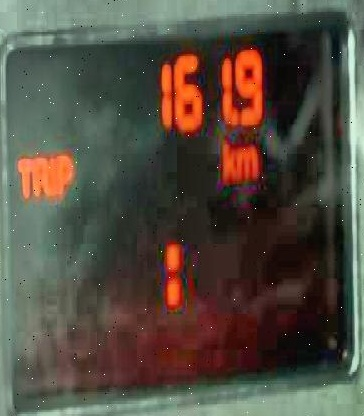-: (230, 102, 238, 127)
1: (158, 54, 173, 136), (219, 49, 233, 123)
6: (174, 49, 201, 134)
9: (235, 40, 263, 125)
X: (161, 231, 184, 316), (16, 152, 32, 203), (236, 143, 257, 181), (32, 147, 47, 200), (57, 149, 73, 198), (221, 136, 234, 182), (48, 147, 55, 209)
